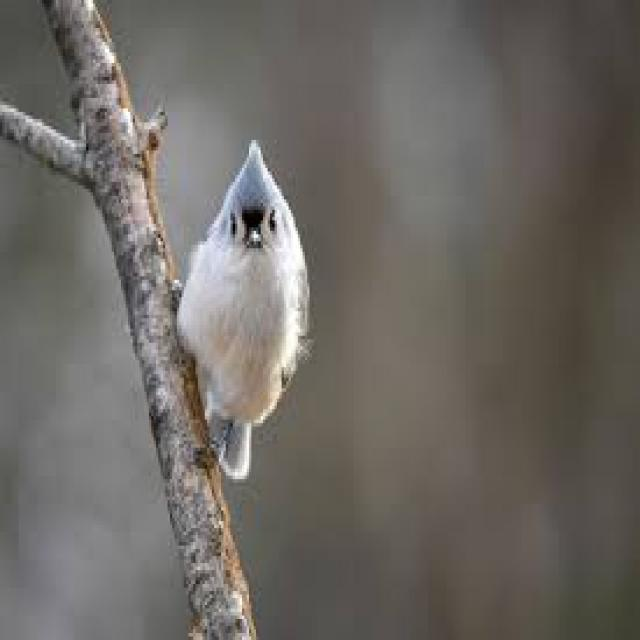bird: (157, 119, 332, 456)
